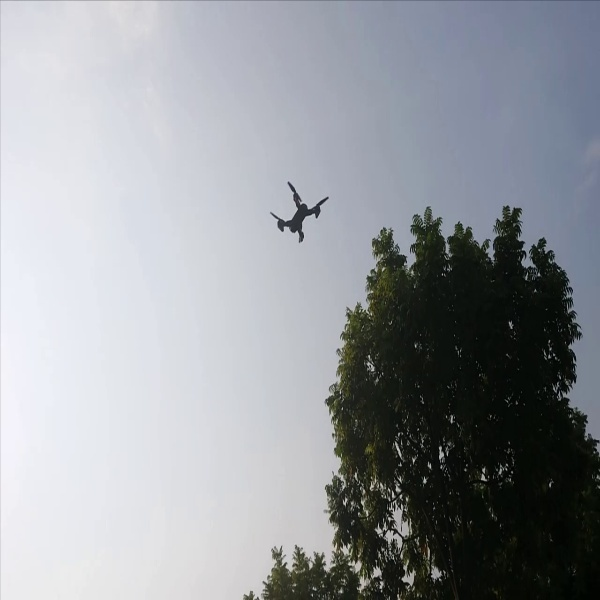drone: (266, 172, 343, 248)
